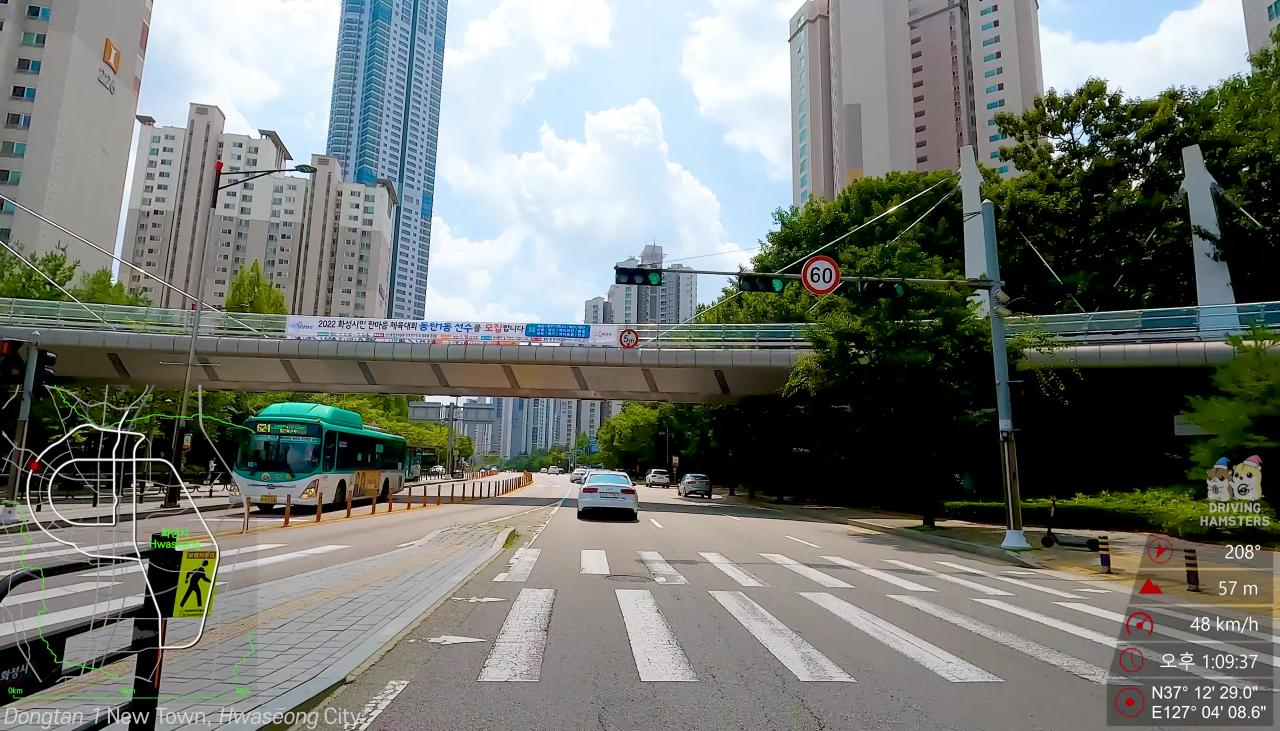Green Light: (648, 271, 662, 285), (771, 278, 785, 292), (893, 283, 905, 297)
